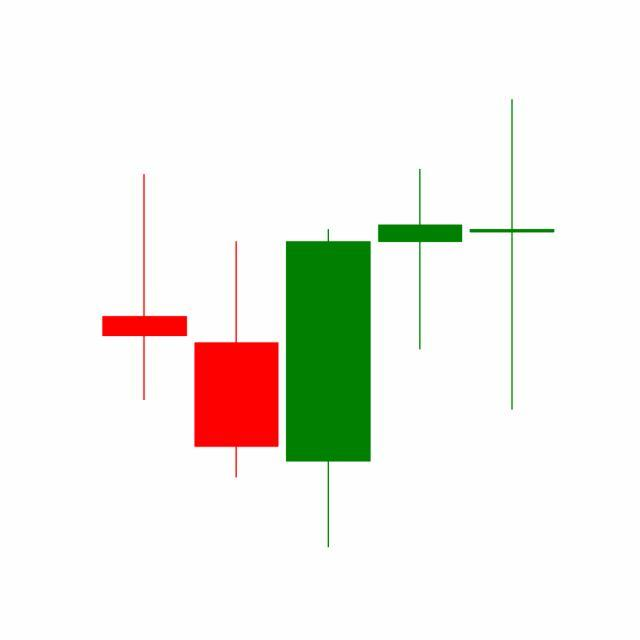Three Outside Up-Down: (190, 165, 467, 549)
